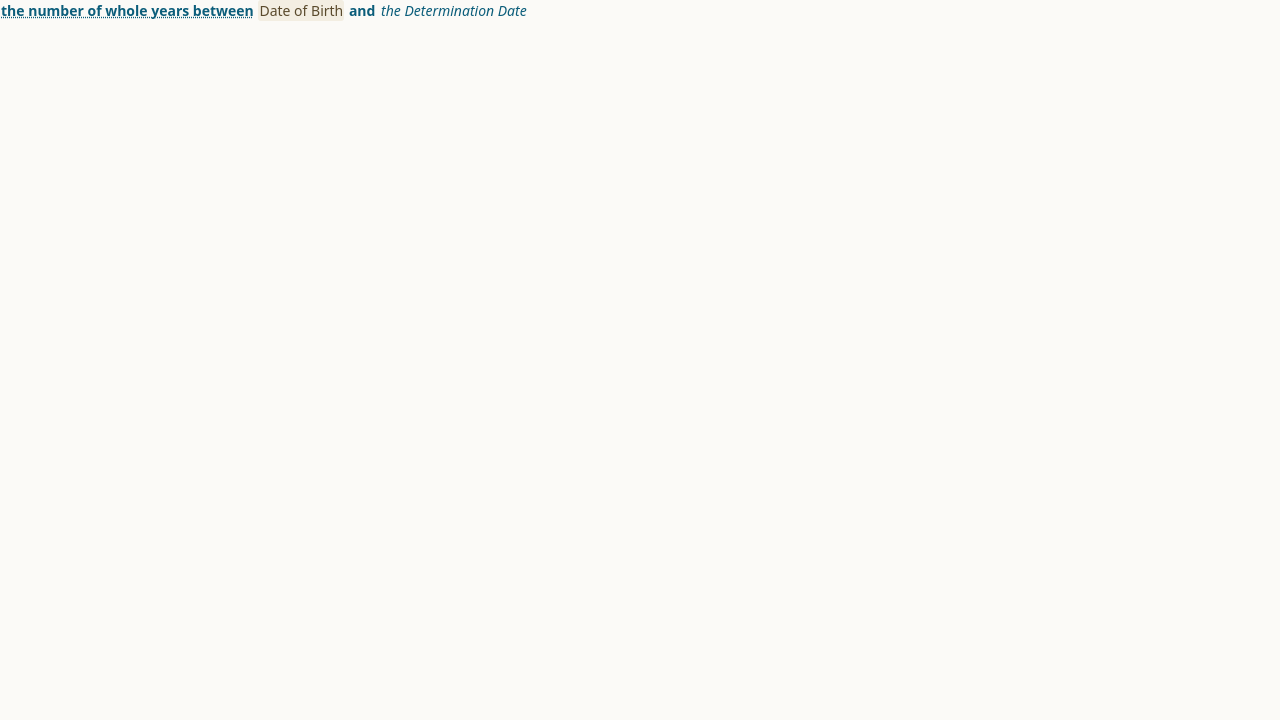
Test: Rich › opens one card on a token, with the definition and the trace to source
Click the button with class "fact".
click(301, 10)  # box [258,0,344,21]
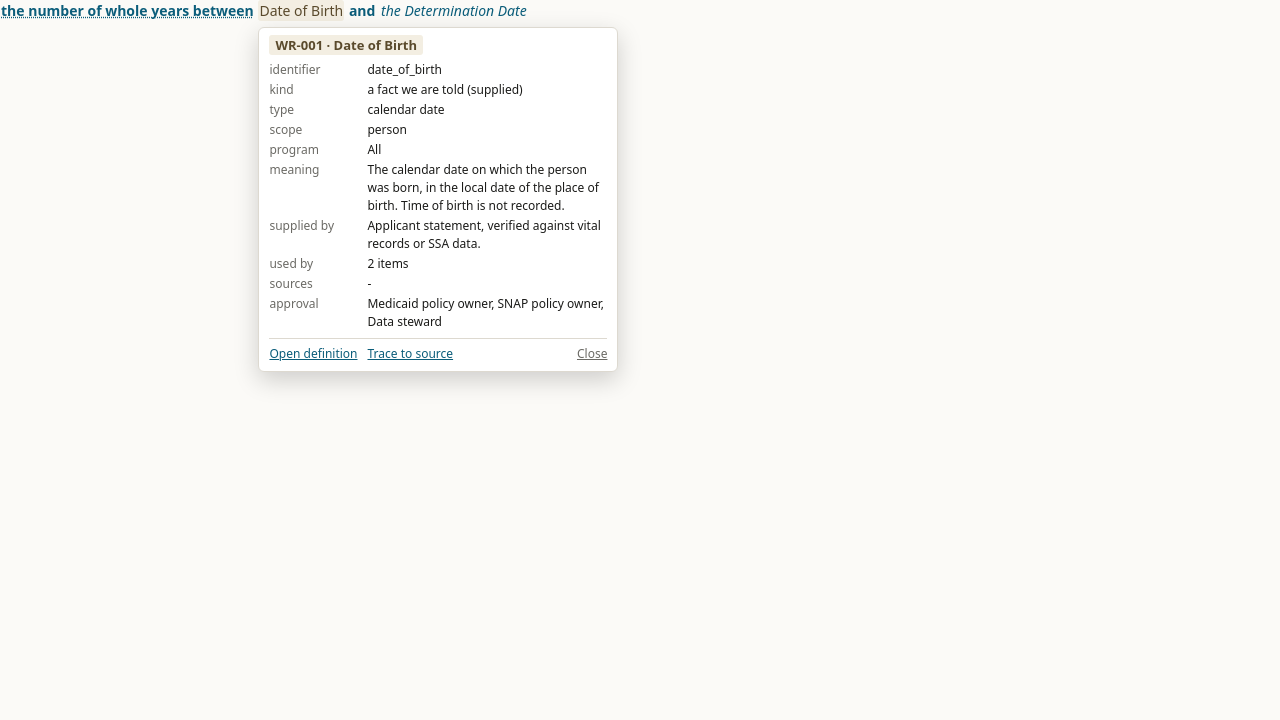
Check: the dialog with class "tokpop" shows "Date of Birth", box [276,36,417,54]
Check: the dialog with class "tokpop" shows "a fact we are told (supplied)", box [368,80,523,98]
Check: the link "Open definition" is shown, box [270,344,358,362]
